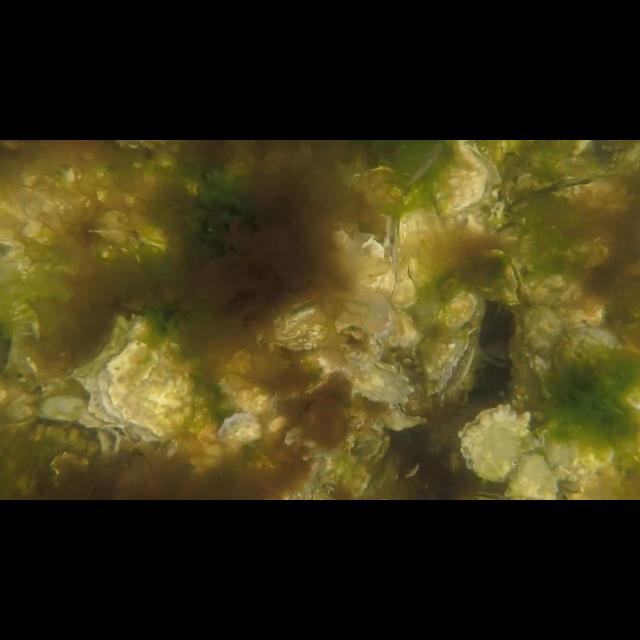Oyster-Closed: (98, 342, 195, 442), (551, 323, 640, 407), (535, 418, 621, 486), (432, 140, 488, 220), (399, 207, 451, 291), (522, 302, 566, 398), (340, 353, 416, 405), (389, 238, 418, 310)
Oyster-Open: (458, 402, 532, 481), (260, 298, 344, 352), (423, 328, 479, 397), (530, 166, 616, 202), (439, 290, 485, 336), (218, 410, 262, 444), (384, 398, 428, 428), (502, 258, 528, 304)
